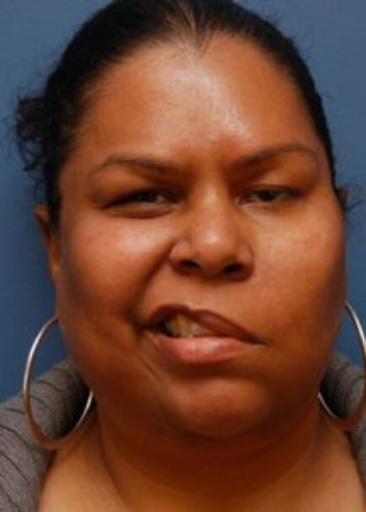left_eye: (242, 187, 304, 211)
left_lip_corner: (243, 330, 271, 355)
right_eye: (101, 187, 181, 217)
right_lip_corner: (136, 317, 157, 341)
